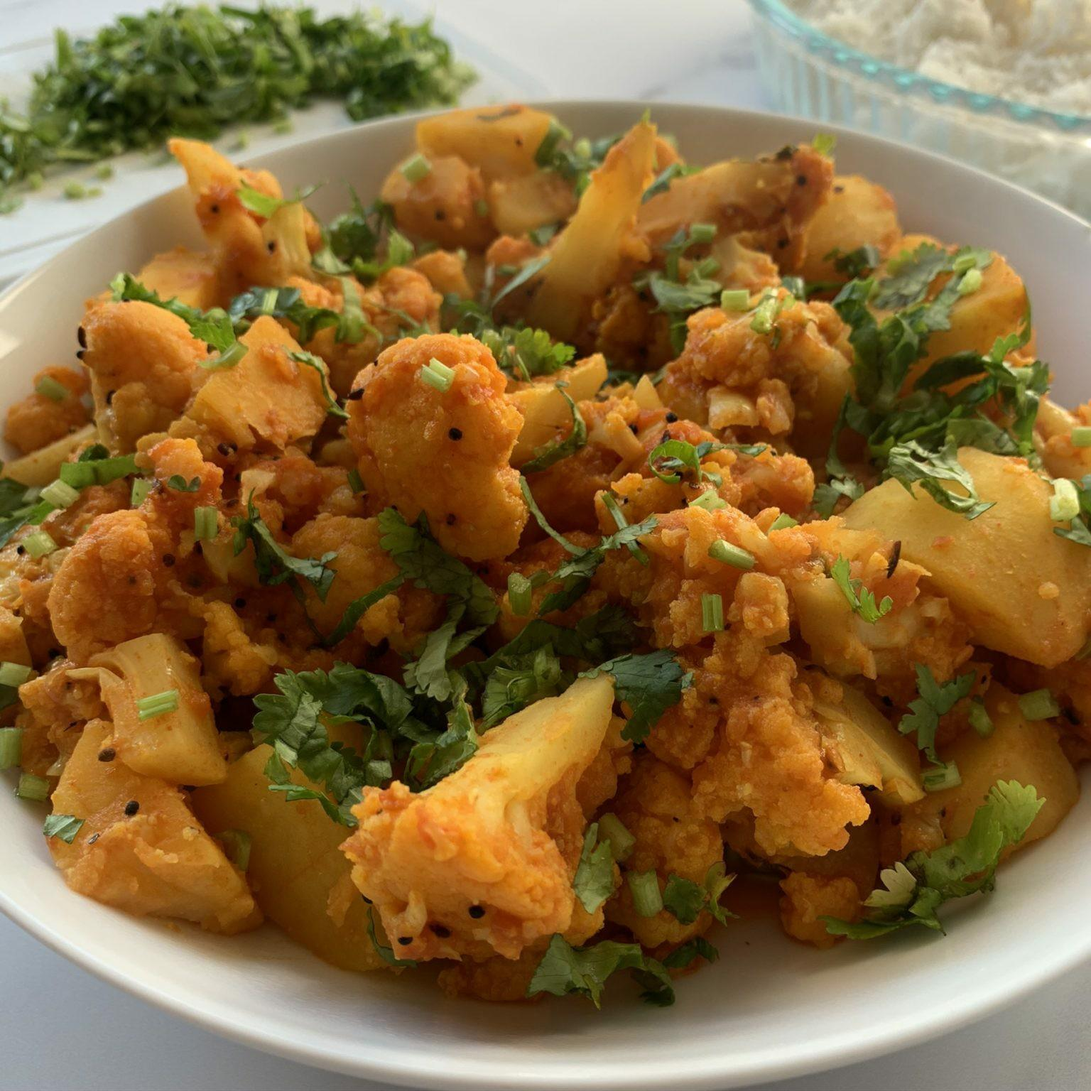AlooGobi: (3, 105, 1091, 1004)
